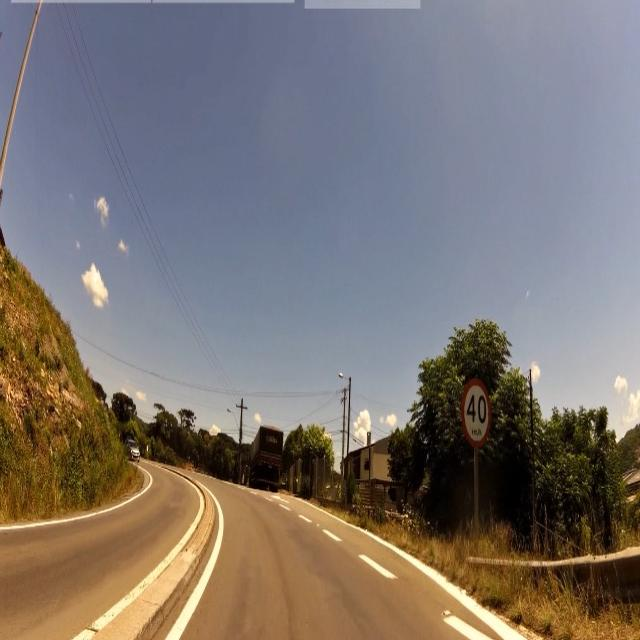R-19: (462, 379, 491, 444)
